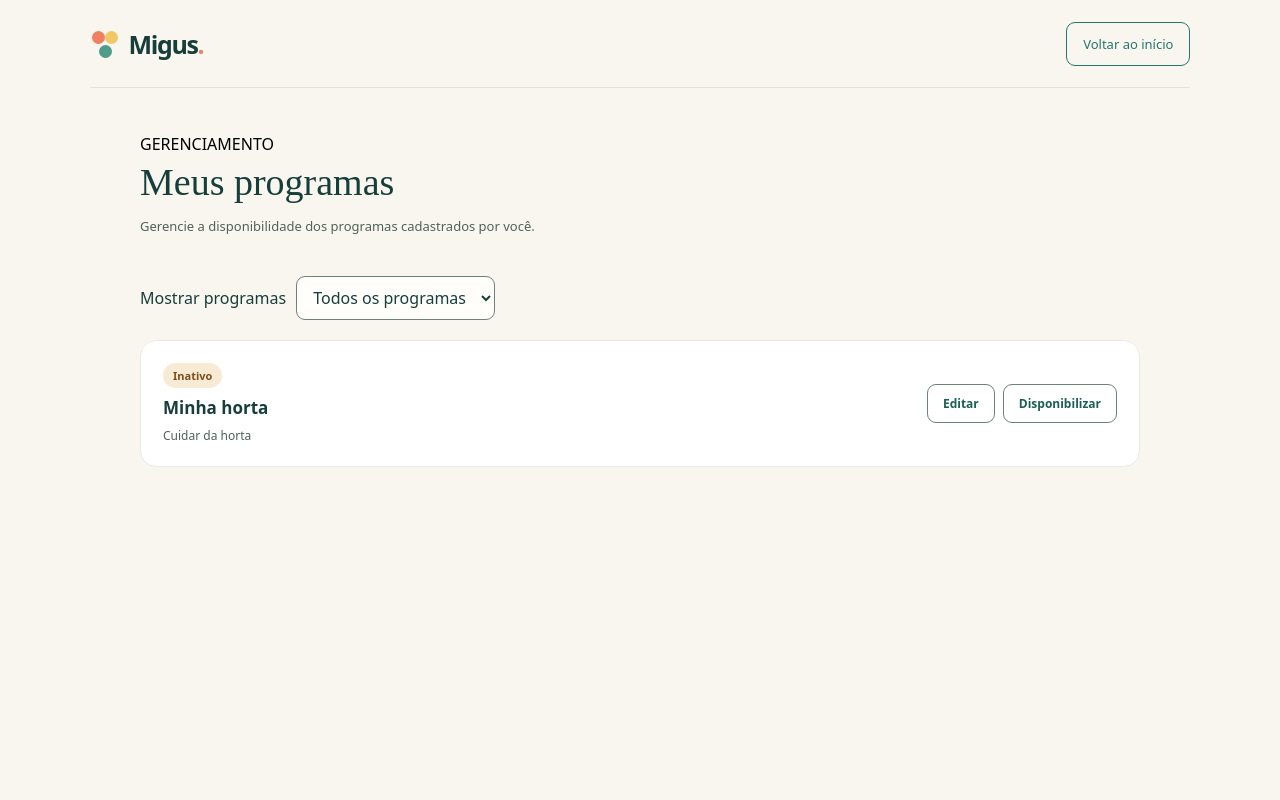
Test: confirma a disponibilidade e envia o estado true
Click the button "Disponibilizar" at (1060, 404), box [1003,384,1117,423]
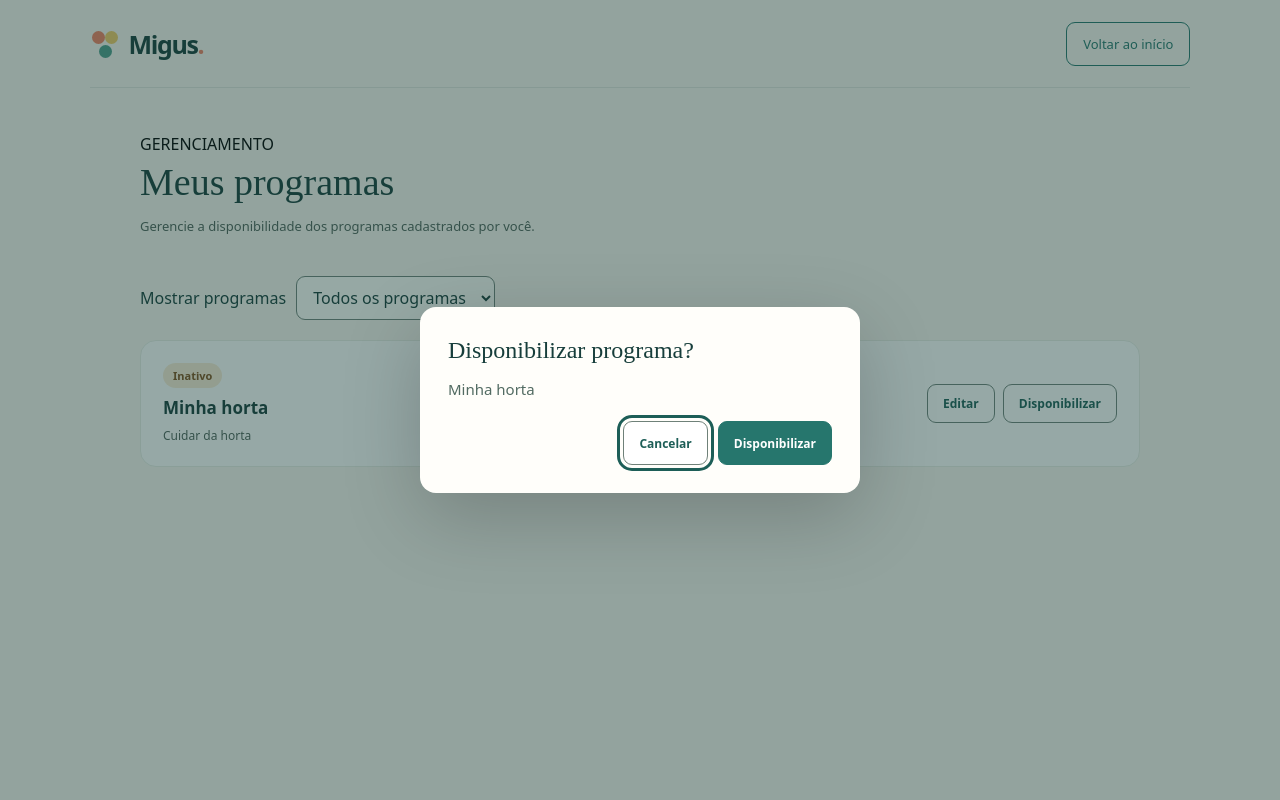
Check: the dialog "Disponibilizar programa?" shows "Minha horta", box [448,379,535,399]
Click the button "Disponibilizar" at (775, 443), box [718,421,832,465]
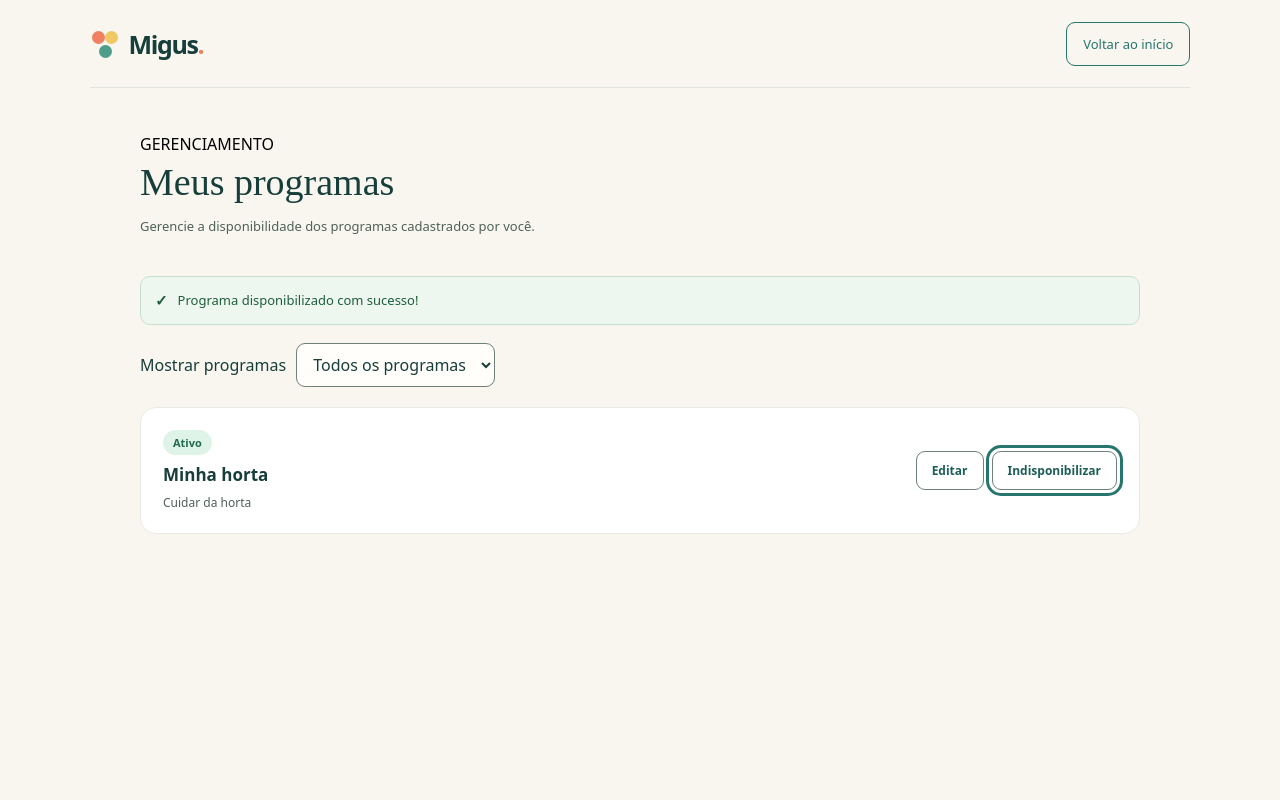
Check: the text "Programa disponibilizado com sucesso!" is shown, box [178,290,418,308]
